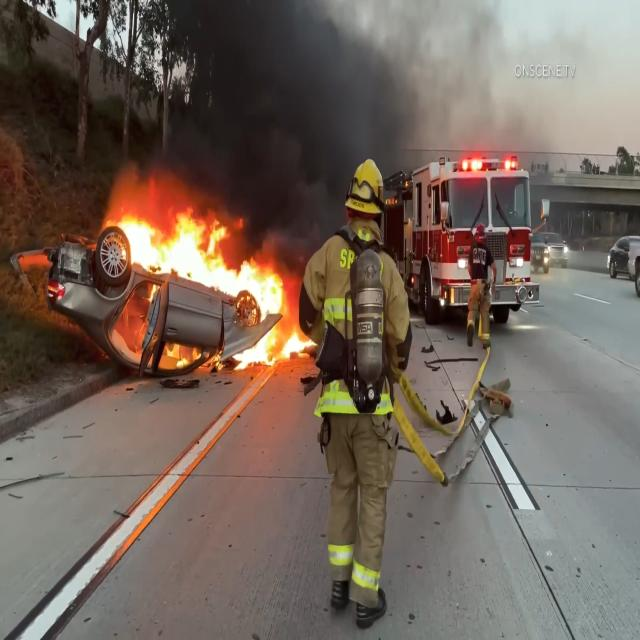fire: (106, 162, 284, 315)
smoke: (189, 3, 408, 156), (410, 7, 522, 152)
